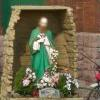Statue: (25, 6, 76, 100)
